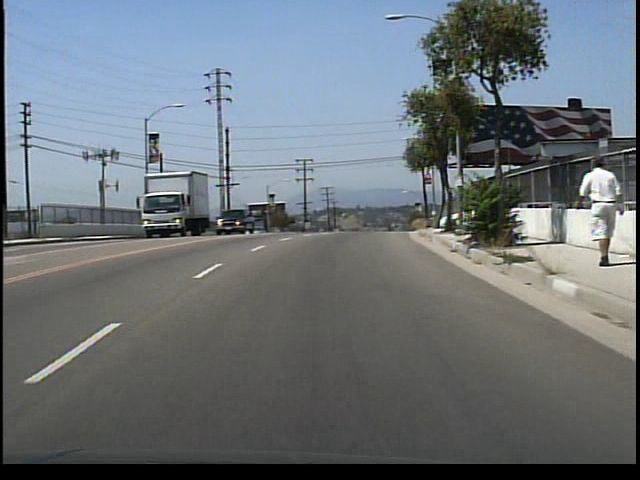person: (572, 152, 617, 268)
